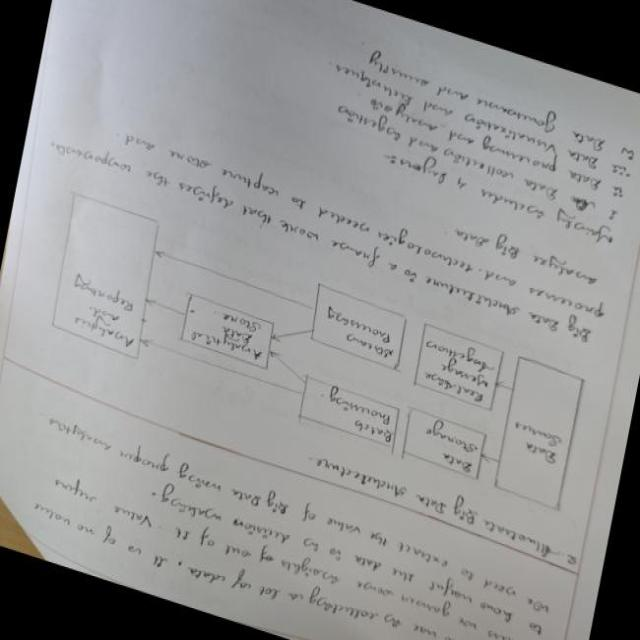Figure Detection - v3 Dataset Version2: (23, 179, 610, 529)
